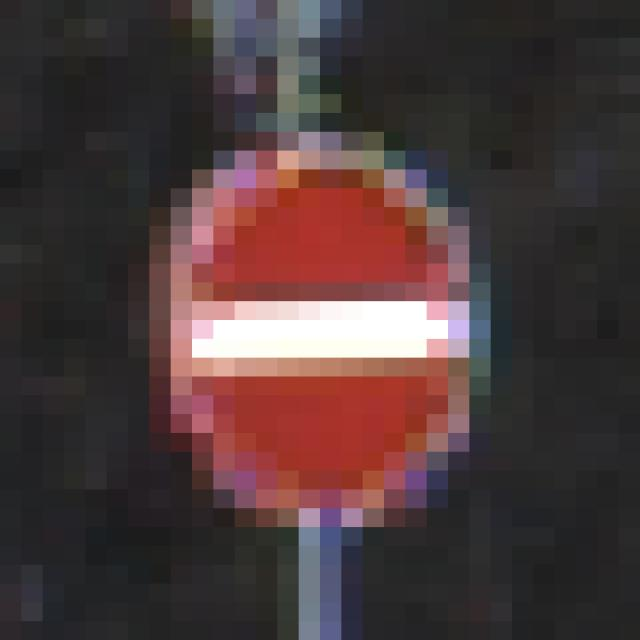No Entry: (129, 114, 534, 547)
